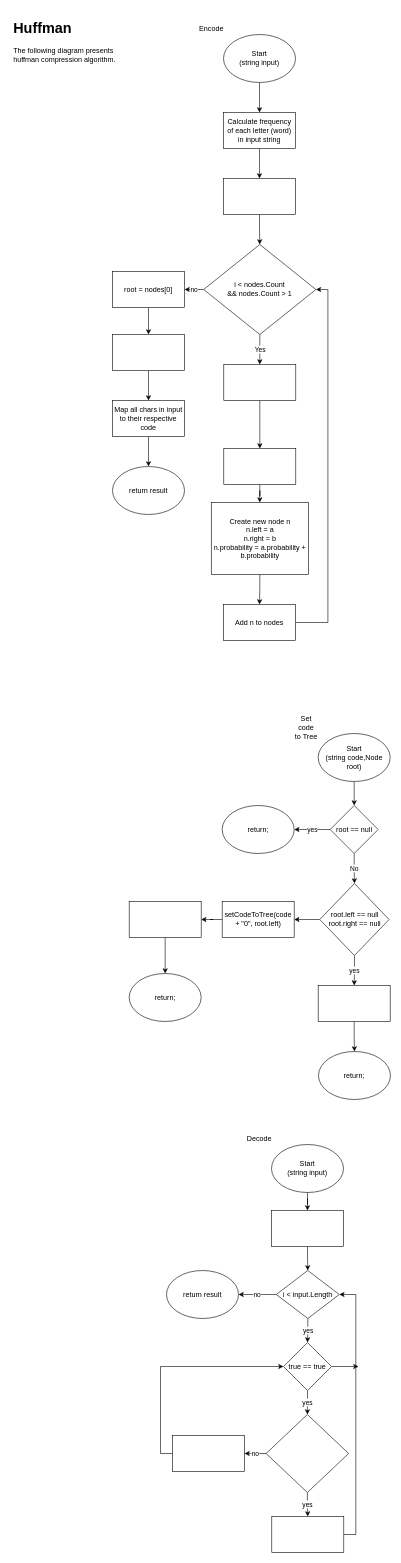
Image size: 401x1563. Some labels were removed from this diagram. Here are the shapes that lost their labels. From the top down, the centre of each, then its label:
point (259, 196): For each word create singular tree nodes
point (148, 352): Set code to tree ("",root)
point (259, 382): a = Node with minimum probability nodes.Remove(a)
point (259, 466): b = Node with minimum probability nodes.Remove(b)
point (165, 919): setCodeToTree(code + "1", root.right)
point (354, 1003): root.currentCode = code
point (307, 1228): i = 0 length = 1 result = ""
point (208, 1453): length++
point (307, 1453): If word taken from i to length exists in word-code map
point (307, 1534): result+=code i += length length = 1
